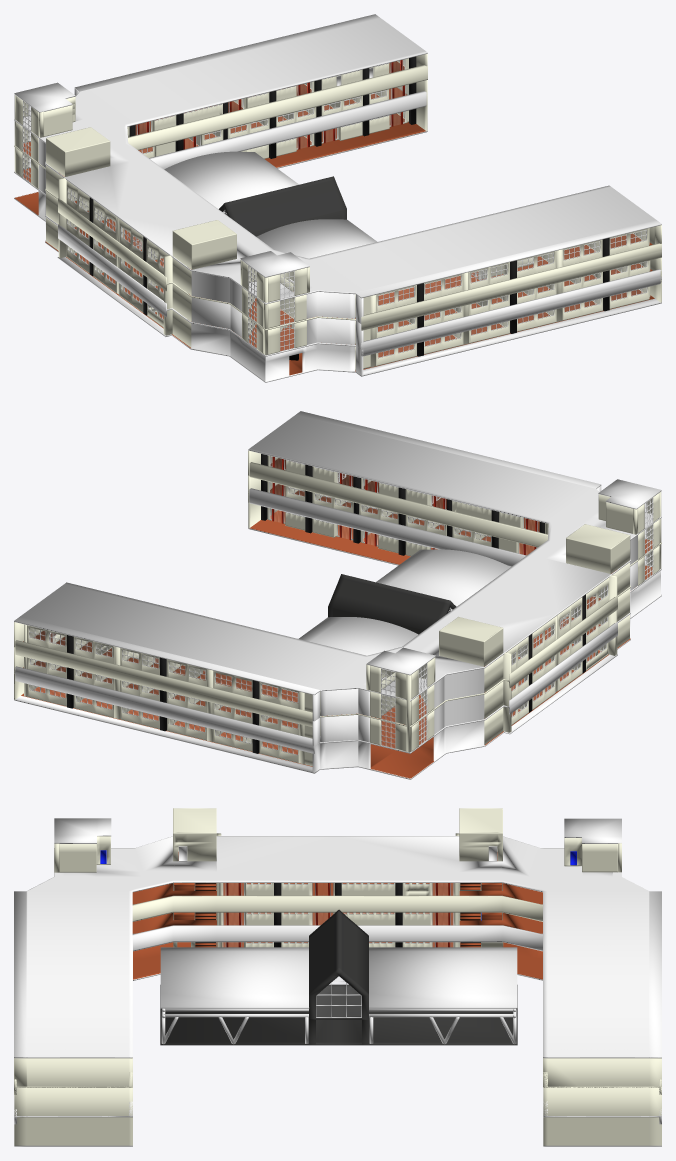
3 renders of one model, top to bottom at view 1: azimuth 30°, elevation 25°; view 2: azimuth 150°, elevation 25°; view 3: azimuth 270°, elevation 25°, orthographic. The views are drawn at different scales.
Visible parts, largest first — view 1: Box461, Lantai_3, Lantai_2, Lantai_1, Plaza_Supeno, Tembok_Lantai_3, Tembok_Lantai_2, SPMB_Surabaya, SPMB_Jatim, Box564, Box563, LP_1 (+19 smaller); view 2: Box461, Lantai_2, Lantai_3, Lantai_1, Plaza_Supeno, Tembok_Lantai_3, Tembok_Lantai_2, SPMB_Jatim, SPMB_Surabaya, Box563, Box564, LP_2 (+17 smaller); view 3: Box461, Plaza_Supeno, Lantai_2, Lantai_3, Lantai_1, Tembok_Lantai_005, SPMB_Jatim, SPMB_Surabaya, Box563, Box564, Aula_Handayani, object 50 (+3 smaller).
Boxes of the visible parts, bbox=[...] form: Box461: bbox=[14, 14, 661, 304]; Lantai_3: bbox=[14, 61, 661, 330]; Lantai_2: bbox=[14, 80, 661, 356]; Lantai_1: bbox=[14, 105, 661, 382]; Plaza_Supeno: bbox=[164, 151, 377, 258]; Tembok_Lantai_3: bbox=[38, 88, 363, 323]; Tembok_Lantai_2: bbox=[38, 165, 363, 348]; SPMB_Surabaya: bbox=[240, 251, 309, 302]; SPMB_Jatim: bbox=[14, 82, 75, 136]; Box564: bbox=[46, 127, 110, 176]; Box563: bbox=[172, 220, 236, 269]; LP_1: bbox=[376, 262, 509, 312]; Box461: bbox=[14, 411, 661, 701]; Lantai_2: bbox=[14, 475, 661, 753]; Lantai_3: bbox=[15, 458, 661, 727]; Lantai_1: bbox=[14, 502, 661, 779]; Plaza_Supeno: bbox=[298, 549, 510, 655]; Tembok_Lantai_3: bbox=[312, 486, 637, 721]; Tembok_Lantai_2: bbox=[312, 561, 637, 746]; SPMB_Jatim: bbox=[366, 647, 435, 699]; SPMB_Surabaya: bbox=[598, 479, 661, 533]; Box563: bbox=[566, 524, 630, 573]; Box564: bbox=[439, 617, 503, 666]; LP_2: bbox=[166, 659, 298, 708]; Box461: bbox=[14, 836, 661, 1058]; Plaza_Supeno: bbox=[160, 909, 517, 1045]; Lantai_2: bbox=[14, 912, 661, 1124]; Lantai_3: bbox=[14, 883, 661, 1094]; Lantai_1: bbox=[14, 942, 661, 1146]; Tembok_Lantai_005: bbox=[14, 1057, 661, 1086]; SPMB_Jatim: bbox=[564, 818, 621, 872]; SPMB_Surabaya: bbox=[54, 818, 111, 872]; Box563: bbox=[173, 808, 216, 861]; Box564: bbox=[459, 808, 502, 861]; Aula_Handayani: bbox=[281, 912, 459, 925]; object 50: bbox=[281, 883, 395, 895].
Size of the model in its own units: 67.24 by 16.78 by 82.11.
